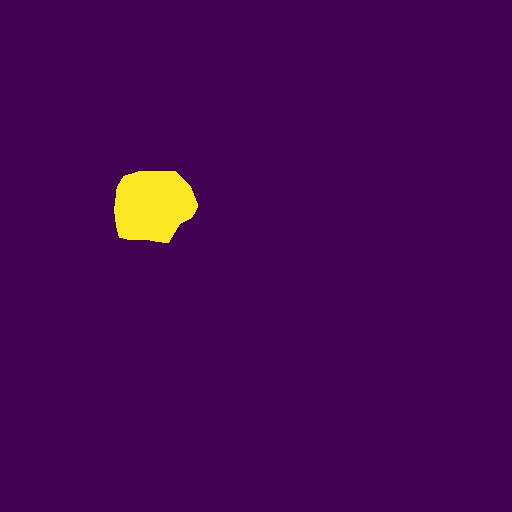Gliomia_tumour: (114, 171, 198, 243)
